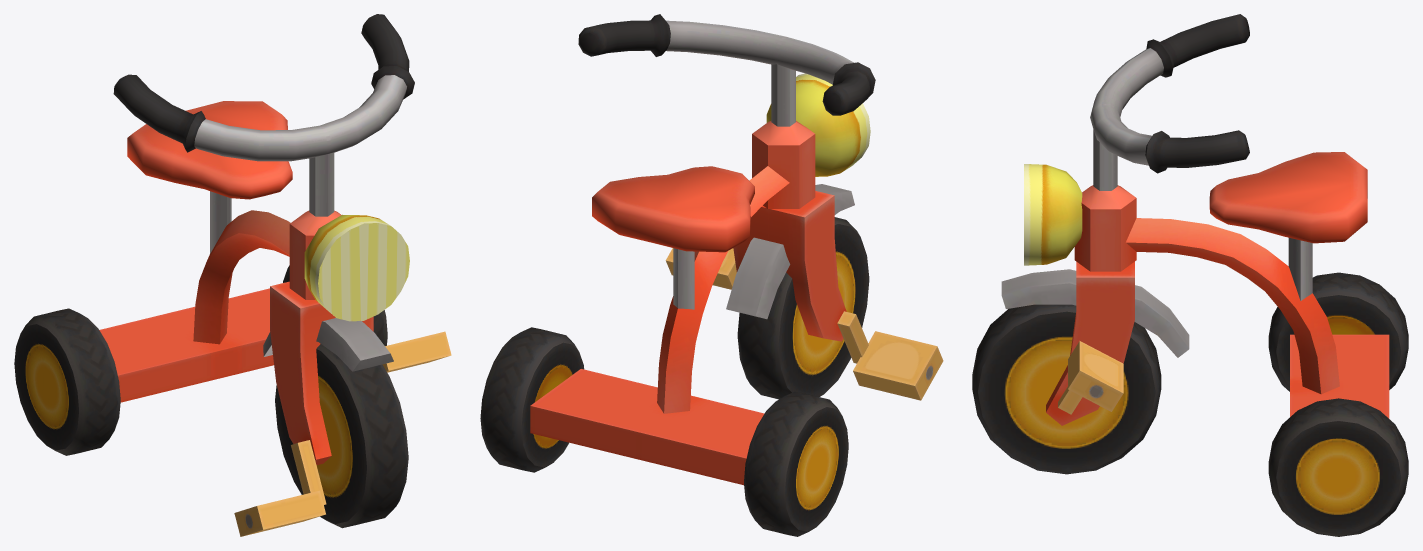
File: bicycle.fbx
3 views of the same model, side by side, from view 1: azimuth 30°, elevation 25°; view 2: azimuth 150°, elevation 25°; view 3: azimuth 270°, elevation 25° (orthographic). The views are drawn at different scales.
Parts seen in each view (by area): view 1: bicycle; view 2: bicycle; view 3: bicycle.
Boxes of the visible parts, bbox=[...] form: bicycle: bbox=[14, 14, 451, 536]; bicycle: bbox=[480, 14, 943, 536]; bicycle: bbox=[972, 14, 1408, 536].
Size of the model in its own units: 0.3845 by 0.4864 by 0.4875.
1 material, 1 textured.
